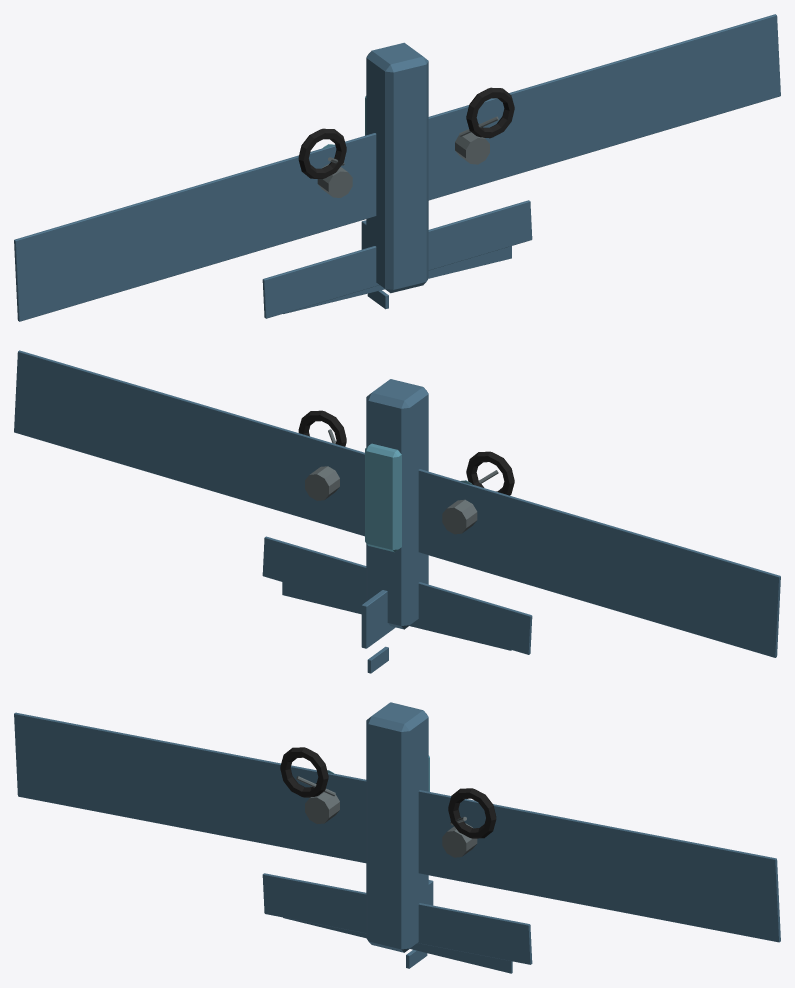
The picture shows the model from 3 angles, top to bottom: view 1: azimuth 30°, elevation 25°; view 2: azimuth 150°, elevation 25°; view 3: azimuth 330°, elevation 25°; orthographic projection.
Parts seen in each view (by area): view 1: main_wing.050, fuselage.045, horizontal_tail.050, wheel_1.043, wheel_0.043, elevator.050, turbofan.009, turbofan.008; view 2: main_wing.050, fuselage.045, horizontal_tail.050, aileron_L.050, aileron_R.050, canopy.045, elevator.050, vertical_tail.050, wheel_0.043, turbofan.008, turbofan.009, wheel_1.043; view 3: main_wing.050, fuselage.045, horizontal_tail.050, elevator.050, wheel_0.043, wheel_1.043, turbofan.008, turbofan.009.
Boxes of the visible parts, x1=… form: main_wing.050: x1=14, y1=14, x2=780, y2=321; fuselage.045: x1=366, y1=42, x2=428, y2=293; horizontal_tail.050: x1=262, y1=200, x2=532, y2=318; wheel_1.043: x1=466, y1=87, x2=514, y2=138; wheel_0.043: x1=298, y1=128, x2=346, y2=178; elevator.050: x1=283, y1=246, x2=511, y2=313; turbofan.009: x1=455, y1=132, x2=489, y2=164; turbofan.008: x1=317, y1=163, x2=352, y2=197; main_wing.050: x1=14, y1=350, x2=780, y2=657; fuselage.045: x1=366, y1=379, x2=428, y2=629; horizontal_tail.050: x1=262, y1=536, x2=532, y2=654; aileron_L.050: x1=572, y1=535, x2=770, y2=607; aileron_R.050: x1=23, y1=401, x2=220, y2=473; canopy.045: x1=365, y1=443, x2=401, y2=552; elevator.050: x1=282, y1=575, x2=511, y2=650; vertical_tail.050: x1=361, y1=590, x2=395, y2=648; wheel_0.043: x1=466, y1=451, x2=514, y2=495; turbofan.008: x1=442, y1=499, x2=477, y2=534; turbofan.009: x1=305, y1=466, x2=339, y2=500; wheel_1.043: x1=298, y1=410, x2=346, y2=446; main_wing.050: x1=14, y1=712, x2=780, y2=942; fuselage.045: x1=366, y1=702, x2=428, y2=952; horizontal_tail.050: x1=262, y1=873, x2=532, y2=964; elevator.050: x1=283, y1=917, x2=512, y2=973; wheel_0.043: x1=280, y1=747, x2=328, y2=797; wheel_1.043: x1=448, y1=788, x2=496, y2=838; turbofan.008: x1=305, y1=792, x2=339, y2=824; turbofan.009: x1=442, y1=823, x2=477, y2=857.
Size of the model in its own units: 31.61 by 10.37 by 3.61.
